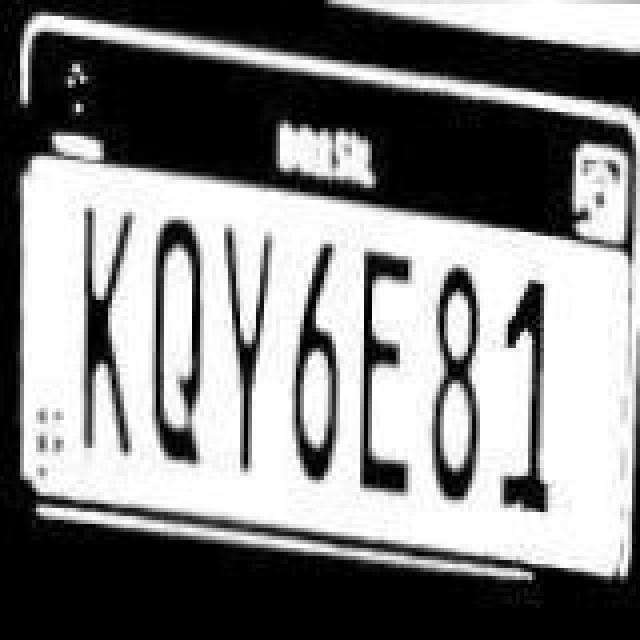1: (496, 264, 564, 520)
6: (290, 238, 350, 478)
8: (430, 256, 494, 512)
E: (354, 250, 422, 502)
K: (76, 202, 140, 462)
Q: (150, 214, 218, 474)
Y: (216, 222, 280, 474)
